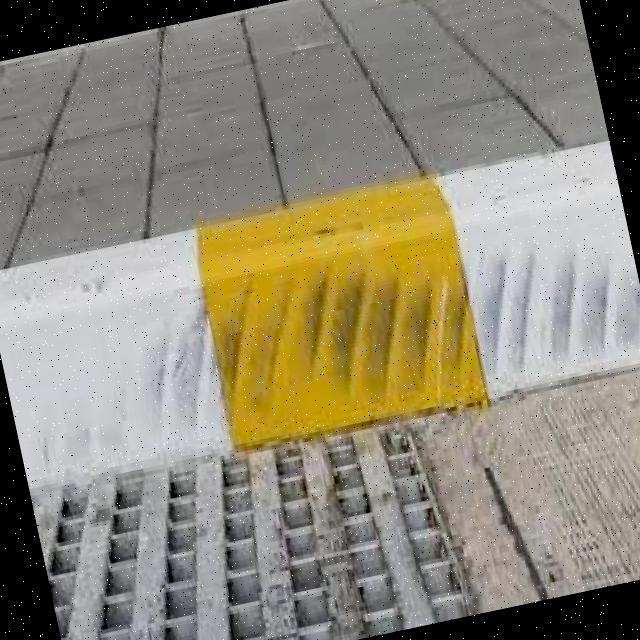curb: (1, 140, 640, 506)
